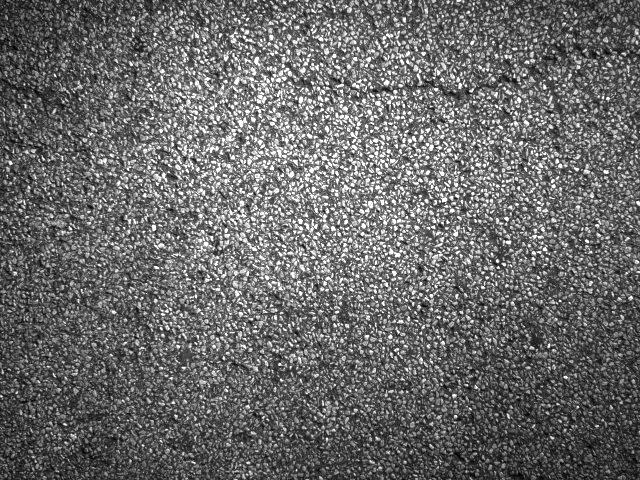crack: (0, 32, 640, 141)
